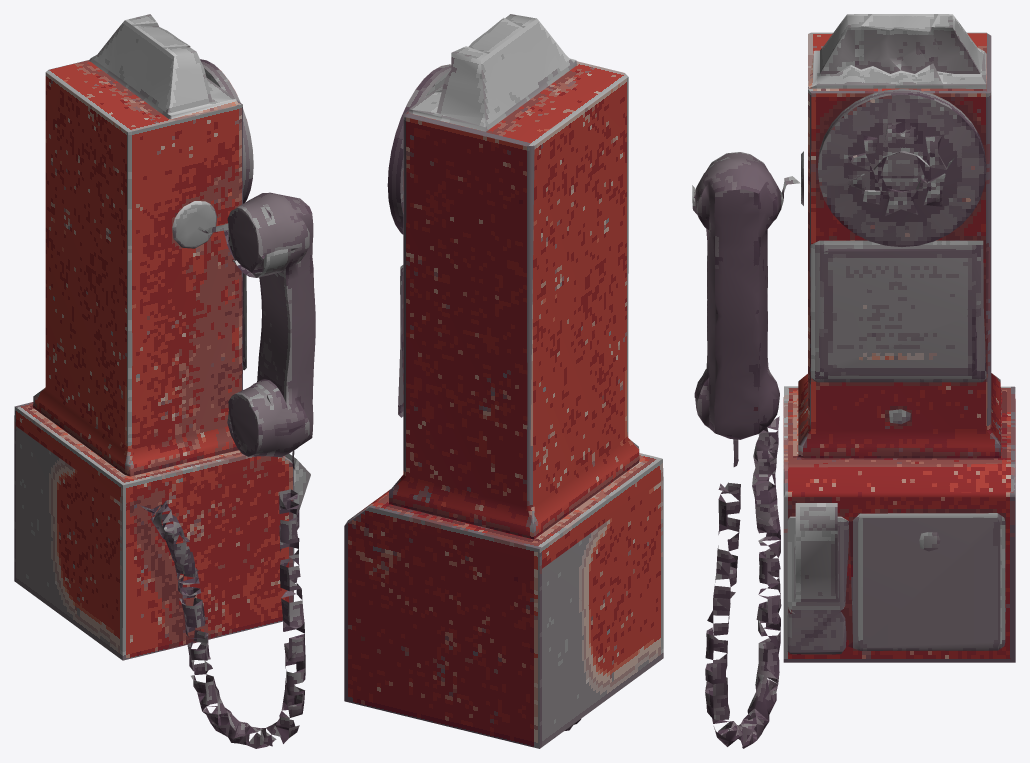
File: payphone_red2.glb
The picture shows the model from 3 angles, left to right: view 1: azimuth 30°, elevation 25°; view 2: azimuth 150°, elevation 25°; view 3: azimuth 270°, elevation 25°; orthographic projection. The views are drawn at different scales.
Parts seen in each view (by area): view 1: mesh; view 2: mesh; view 3: mesh.
Boxes of the visible parts, box(x1,y1,x2,y2) form: mesh: box(14, 14, 315, 748); mesh: box(344, 14, 663, 748); mesh: box(692, 14, 1015, 748).
Bounding box in the file's own units: 0.1372 × 0.45 × 0.1854.
1 material, 1 textured.
